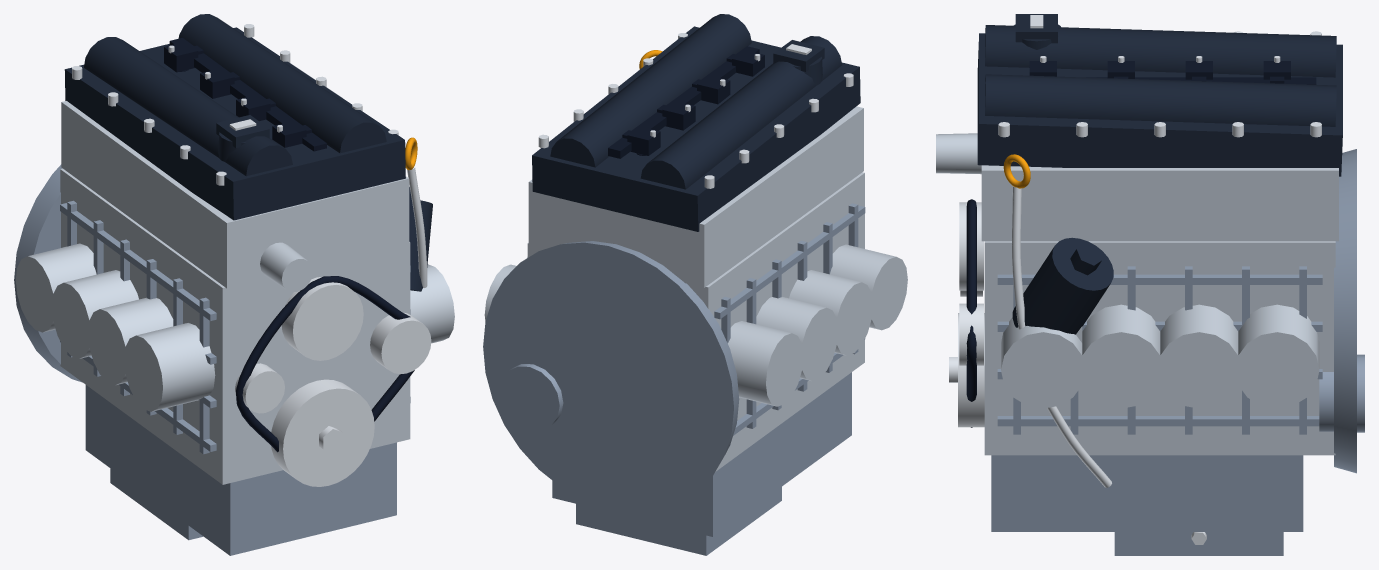
File: engine.glb
3 renders of one model, left to right at view 1: azimuth 30°, elevation 25°; view 2: azimuth 150°, elevation 25°; view 3: azimuth 270°, elevation 25°, orthographic. The views are drawn at different scales.
Visible parts, largest first — view 1: mesh_engine_block, mesh_valve_cover, mesh_oil_pan, mesh_crank_snout, mesh_ignition_rail, mesh_dipstick_tube, mesh_oil_housing; view 2: mesh_engine_block, mesh_valve_cover, mesh_oil_pan, mesh_ignition_rail; view 3: mesh_engine_block, mesh_valve_cover, mesh_oil_pan, mesh_oil_housing, mesh_crank_snout, mesh_ignition_rail, mesh_dipstick_tube.
Boxes of the visible parts, box(x1,y1,x2,y2) form: mesh_engine_block: box(14, 101, 454, 472); mesh_valve_cover: box(64, 14, 405, 220); mesh_oil_pan: box(60, 355, 410, 555); mesh_crank_snout: box(235, 276, 431, 486); mesh_ignition_rail: box(164, 38, 326, 151); mesh_dipstick_tube: box(405, 137, 427, 287); mesh_oil_housing: box(409, 187, 432, 291); mesh_engine_block: box(483, 106, 907, 512); mesh_valve_cover: box(532, 14, 860, 231); mesh_oil_pan: box(552, 351, 864, 555); mesh_ignition_rail: box(608, 46, 764, 158); mesh_engine_block: box(936, 133, 1364, 473); mesh_valve_cover: box(977, 14, 1342, 176); mesh_oil_pan: box(984, 442, 1335, 555); mesh_oil_housing: box(1012, 237, 1113, 342); mesh_crank_snout: box(949, 199, 984, 427); mesh_ignition_rail: box(1029, 56, 1316, 84); mesh_dipstick_tube: box(1003, 154, 1111, 487).
Bounding box in the file's own units: 0.5803 × 0.804 × 0.66.
